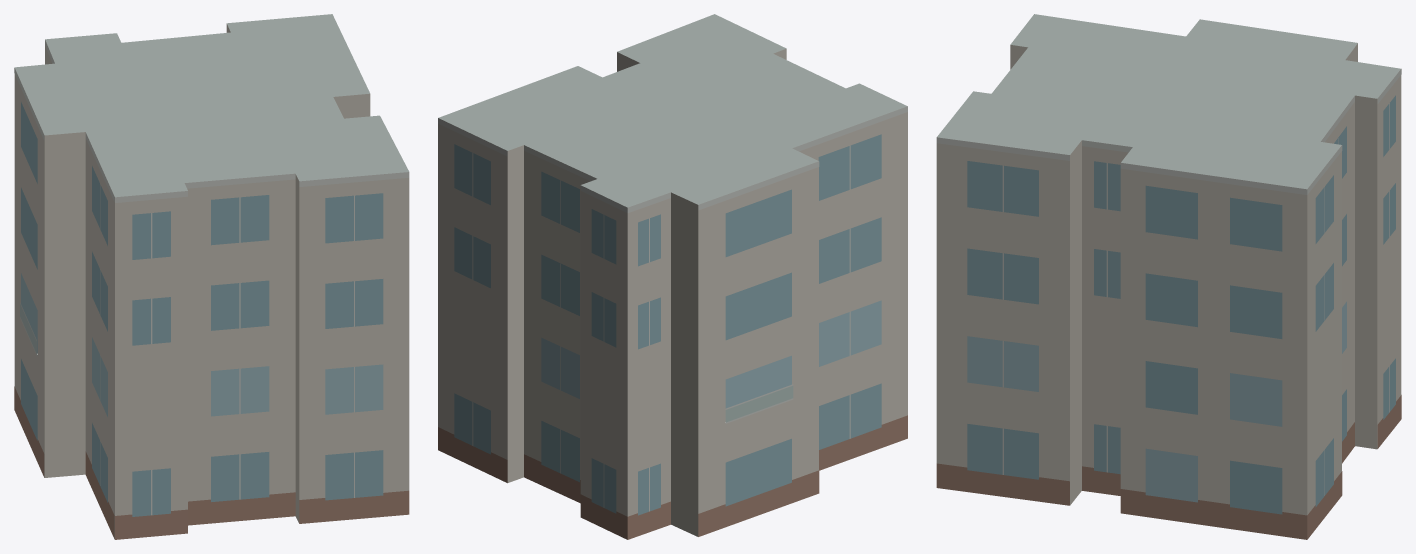
File: survey-upis-32697751.glb
3 renders of one model, left to right at view 1: azimuth 30°, elevation 25°; view 2: azimuth 150°, elevation 25°; view 3: azimuth 270°, elevation 25°, orthographic. The views are drawn at different scales.
Visible parts, largest first — view 1: survey-upis-32697751.tmp; view 2: survey-upis-32697751.tmp; view 3: survey-upis-32697751.tmp.
Boxes of the visible parts, x1,y1,x2,y2 form: survey-upis-32697751.tmp: [14, 14, 409, 539]; survey-upis-32697751.tmp: [438, 14, 907, 539]; survey-upis-32697751.tmp: [936, 14, 1401, 539].
Size of the model in its own units: 15.45 by 14.4 by 17.31.
